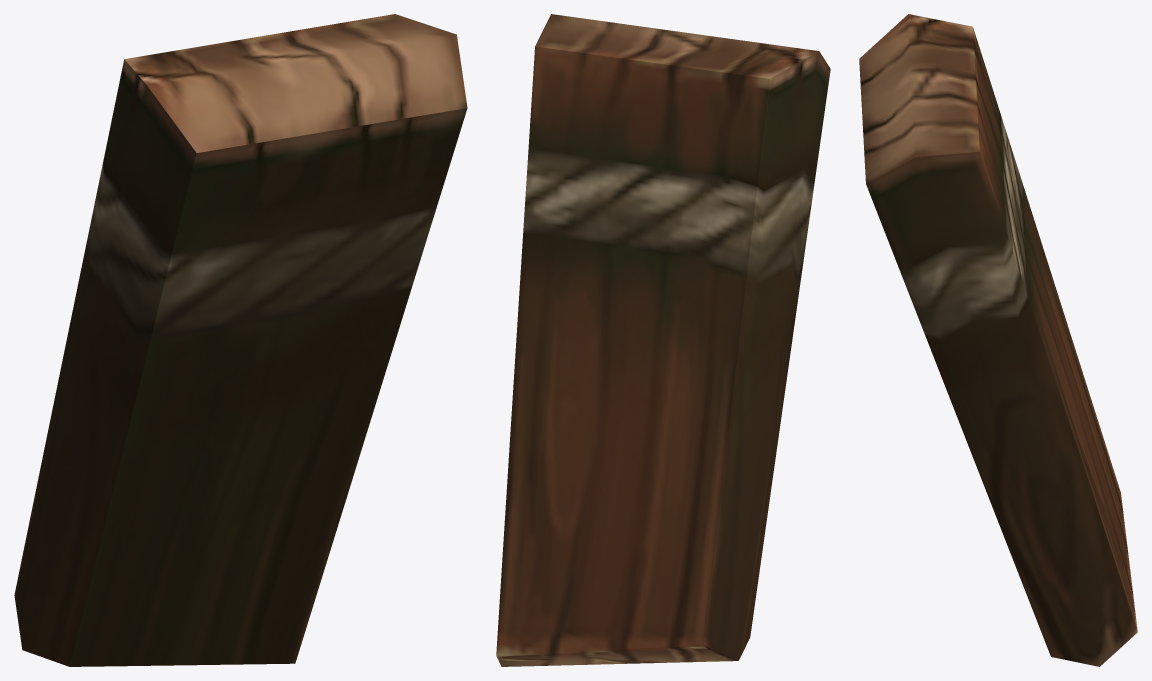
File: rope_bridge_module_broken02.fbx
3 views of the same model, side by side, from view 1: azimuth 30°, elevation 25°; view 2: azimuth 150°, elevation 25°; view 3: azimuth 270°, elevation 25° (orthographic). The views are drawn at different scales.
Parts seen in each view (by area): view 1: rope_bridge_module_broken02; view 2: rope_bridge_module_broken02; view 3: rope_bridge_module_broken02.
Part boxes in pixels (left/top/right/bottom): rope_bridge_module_broken02: left=14, top=14, right=467, bottom=666; rope_bridge_module_broken02: left=496, top=14, right=830, bottom=666; rope_bridge_module_broken02: left=859, top=14, right=1137, bottom=666.
Bounding box in the file's own units: 30.46 × 62.52 × 28.46.
